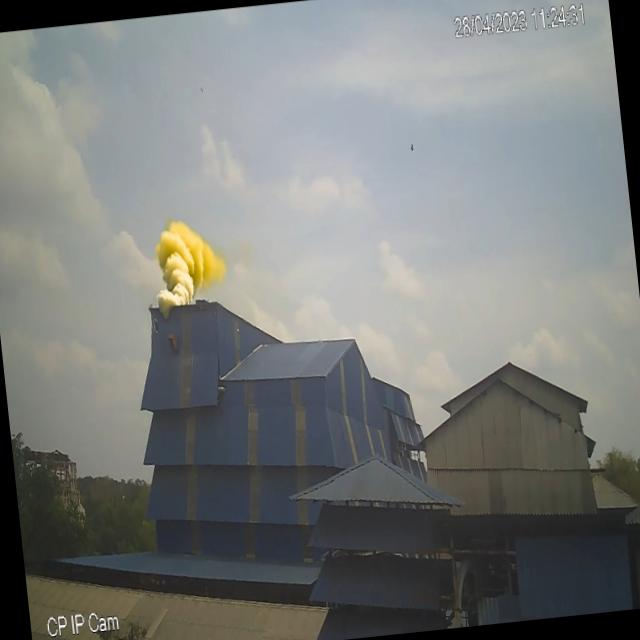yellow smoke: (147, 211, 229, 318)
